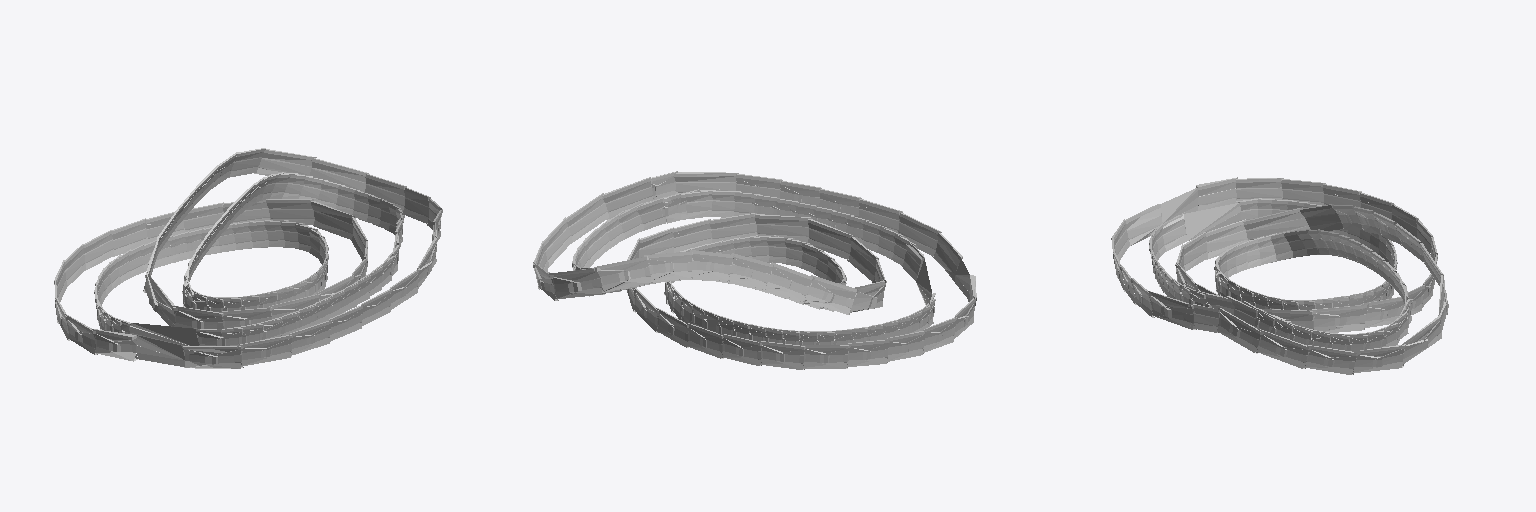
Rendered from walls.obj.
The picture shows the model from 3 angles: view 1: azimuth 30°, elevation 25°; view 2: azimuth 150°, elevation 25°; view 3: azimuth 270°, elevation 25°; orthographic projection.
Bounding box in the file's own units: 199 × 43.98 × 154.